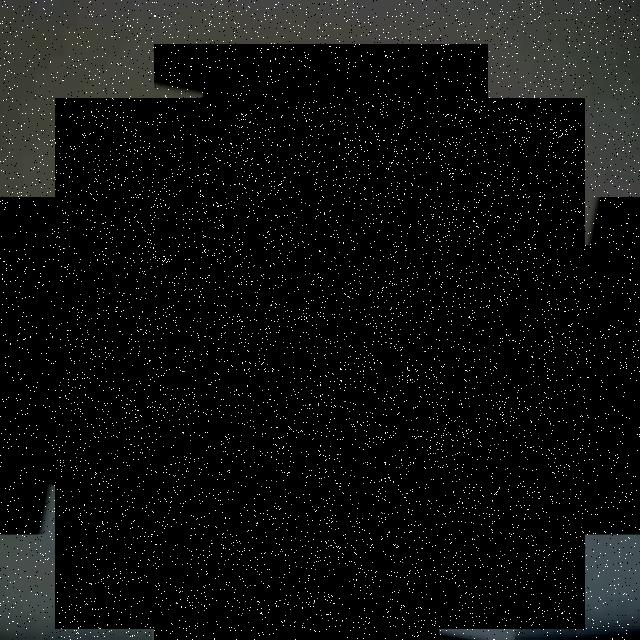dua puluh ribu rupiah: (55, 98, 585, 629)
